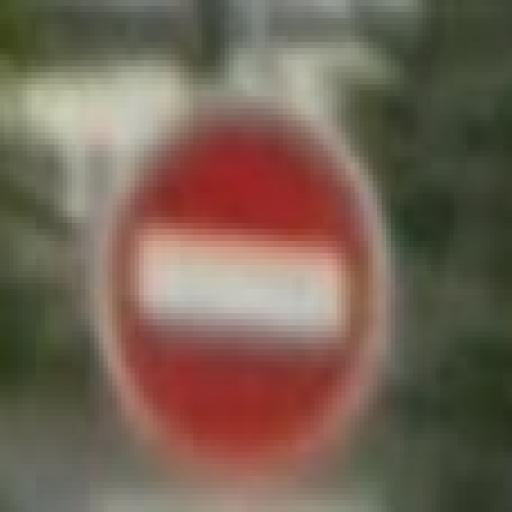traffic_sign: (91, 97, 392, 483)
